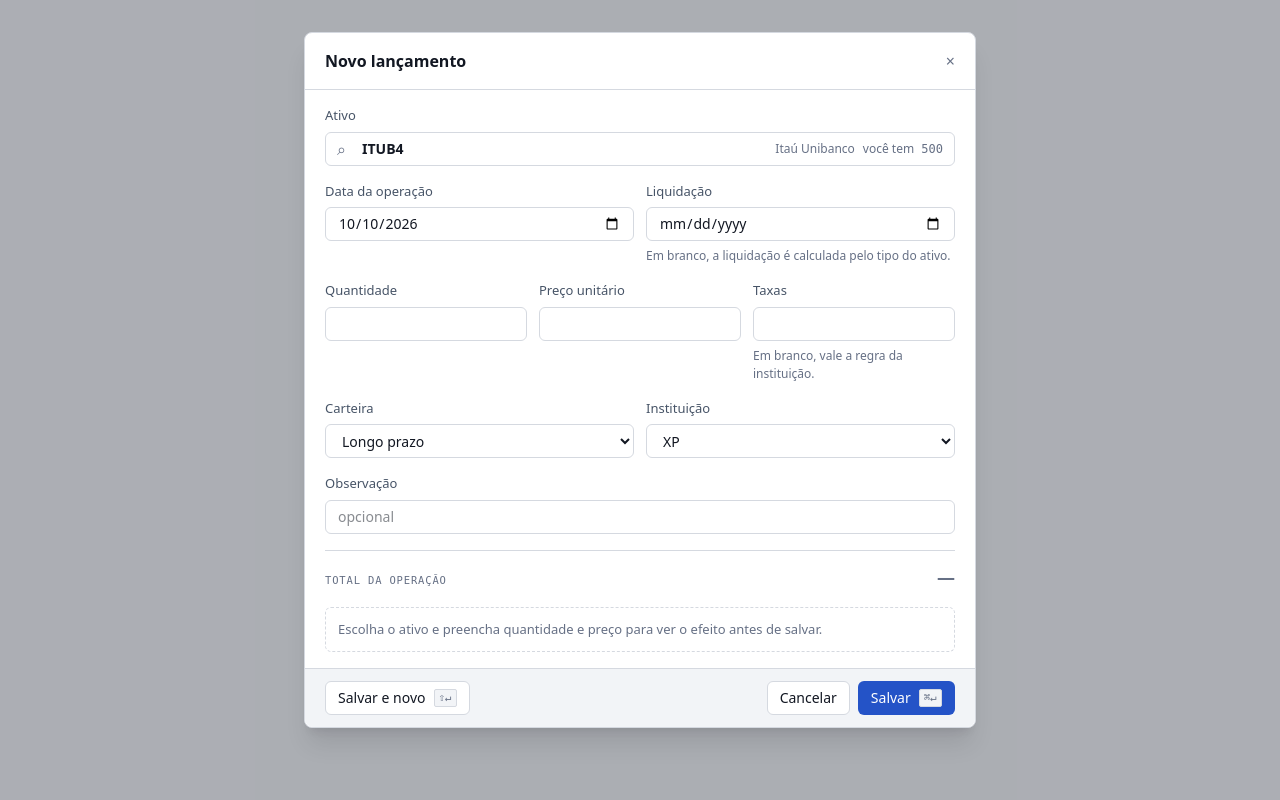
Test: lançamento de compra e venda › campo inválido bloqueia o salvar e explica o erro no próprio campo
In the field labelled "Quantidade": (426, 324) [325,306,527,340], type "100"
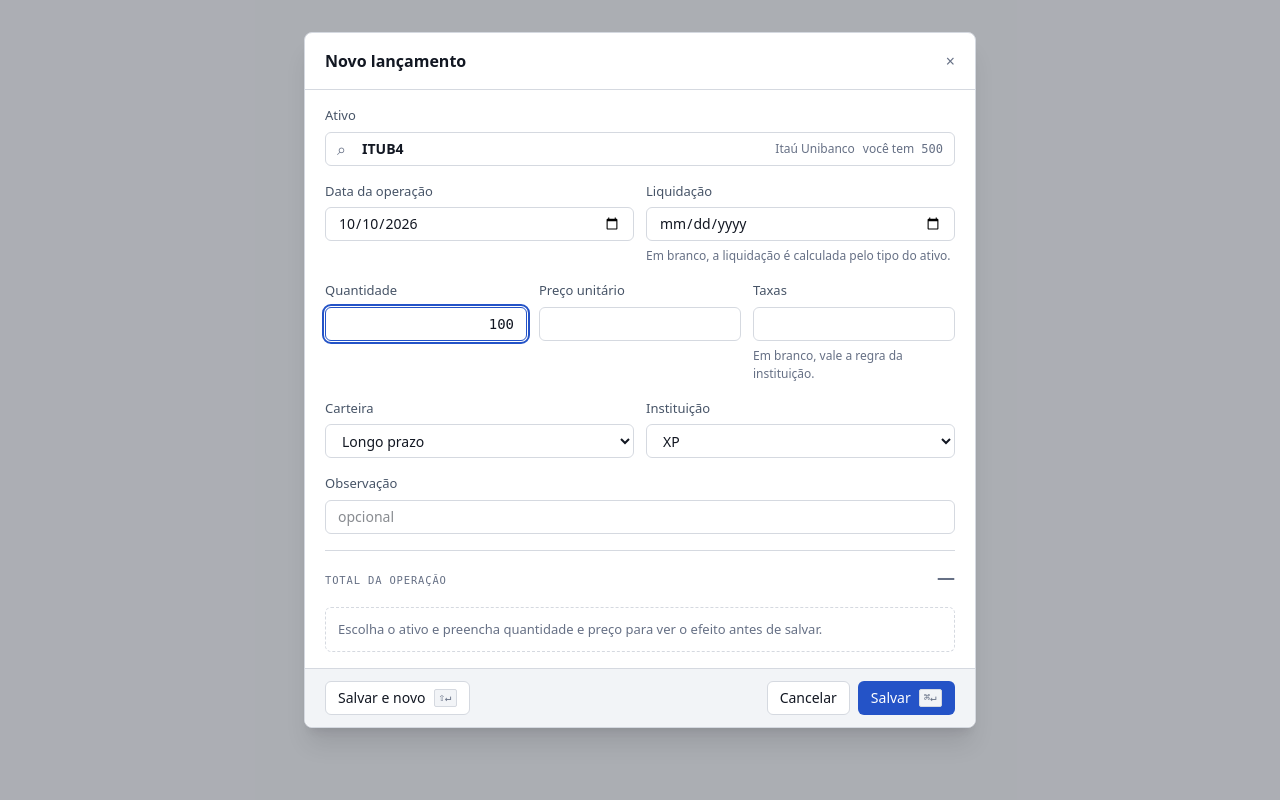
Type keys "{Meta>}{Enter}{/Meta}"
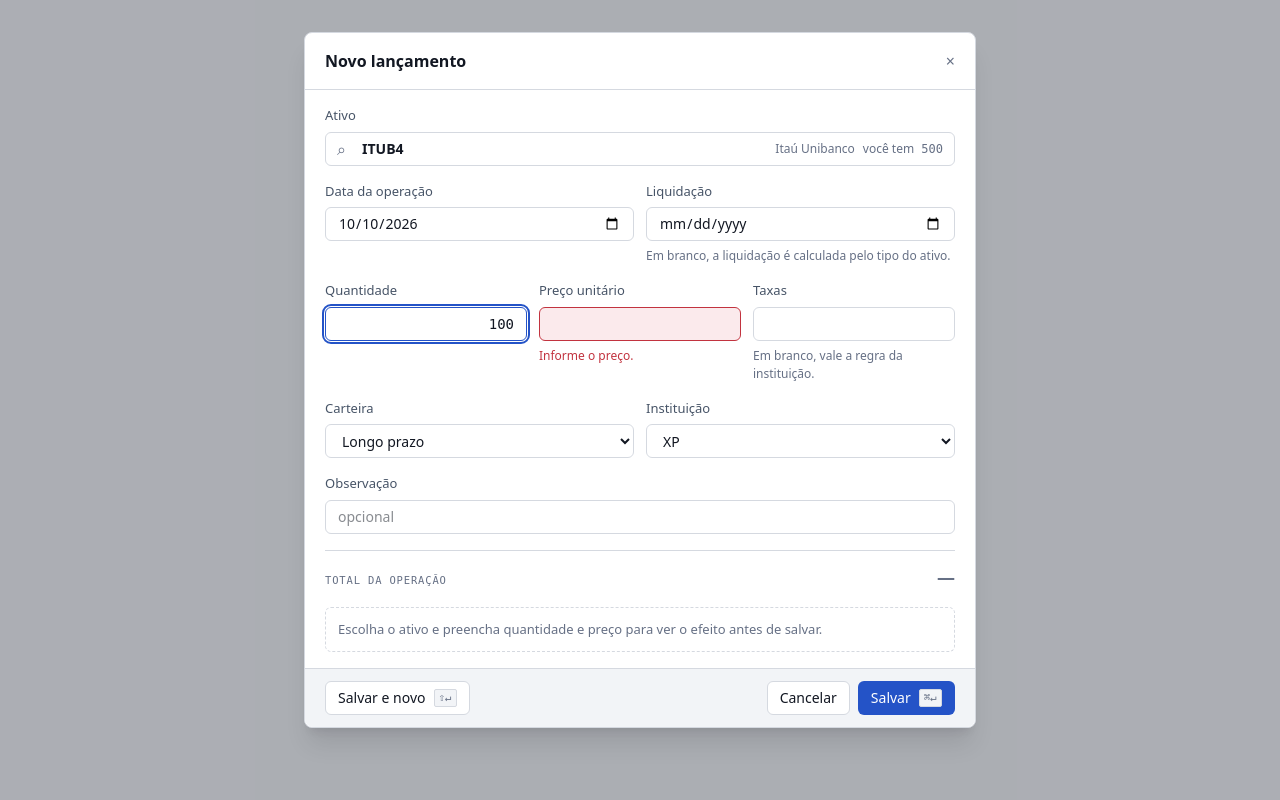
Now the text "Informe o preço." is shown, box [539,346,633,364]
